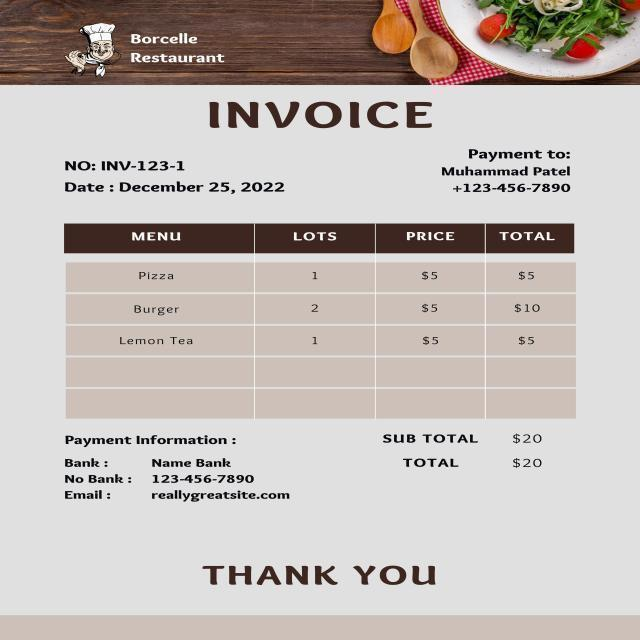ROI: (51, 211, 587, 401), (51, 427, 316, 518), (166, 551, 477, 602), (367, 421, 578, 488), (204, 91, 448, 142), (49, 158, 315, 204), (57, 14, 237, 79), (427, 145, 587, 204)
